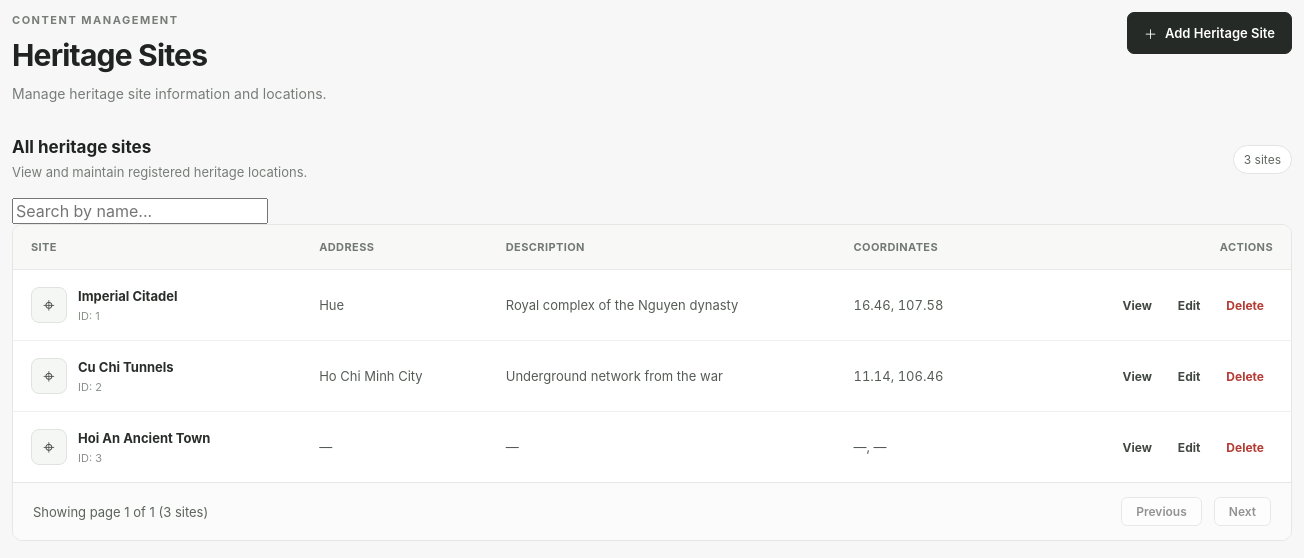
Scenario: HeritageSitesPage — CRUD request behavior › cancels or confirms deletion and refreshes only after confirmation
The image size is (1304, 558).
Expected: the text "Cu Chi Tunnels" is shown, [78, 359, 174, 375]
What coordinates should you click on to do the following:
click the button with aria-label "delete cu chi tunnels"
I would click on:
 (1245, 376)
Its box is [1217, 362, 1273, 391].
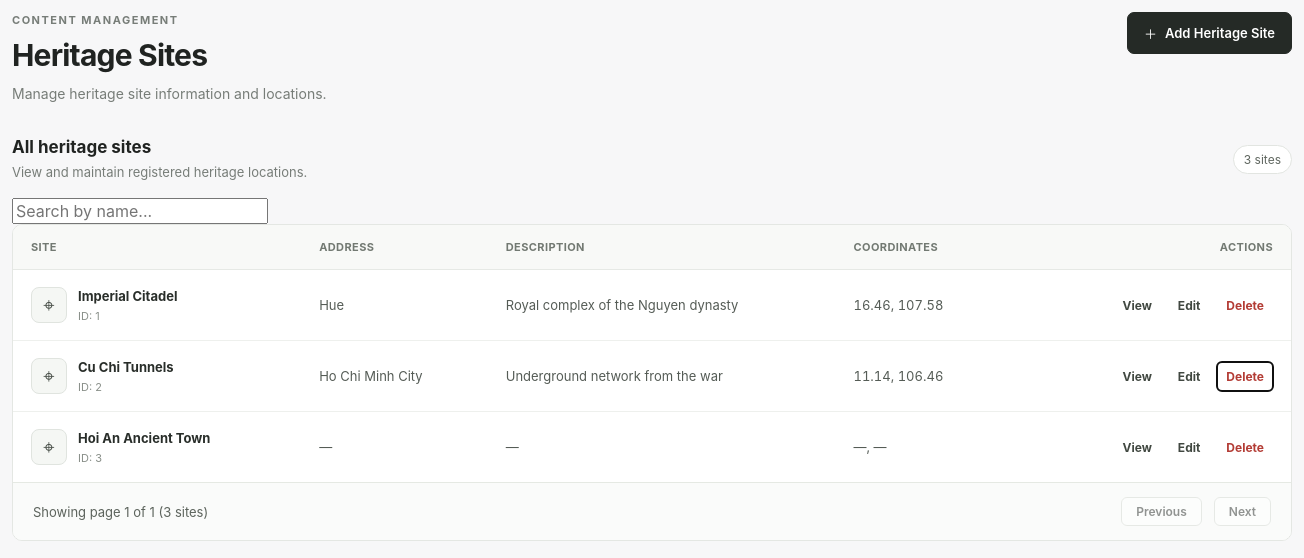
Expected: the text "Cu Chi Tunnels" is shown, [78, 359, 174, 375]
What coordinates should you click on to do the following:
click the button with aria-label "delete cu chi tunnels"
I would click on:
 (1245, 376)
Its box is [1217, 362, 1273, 391].
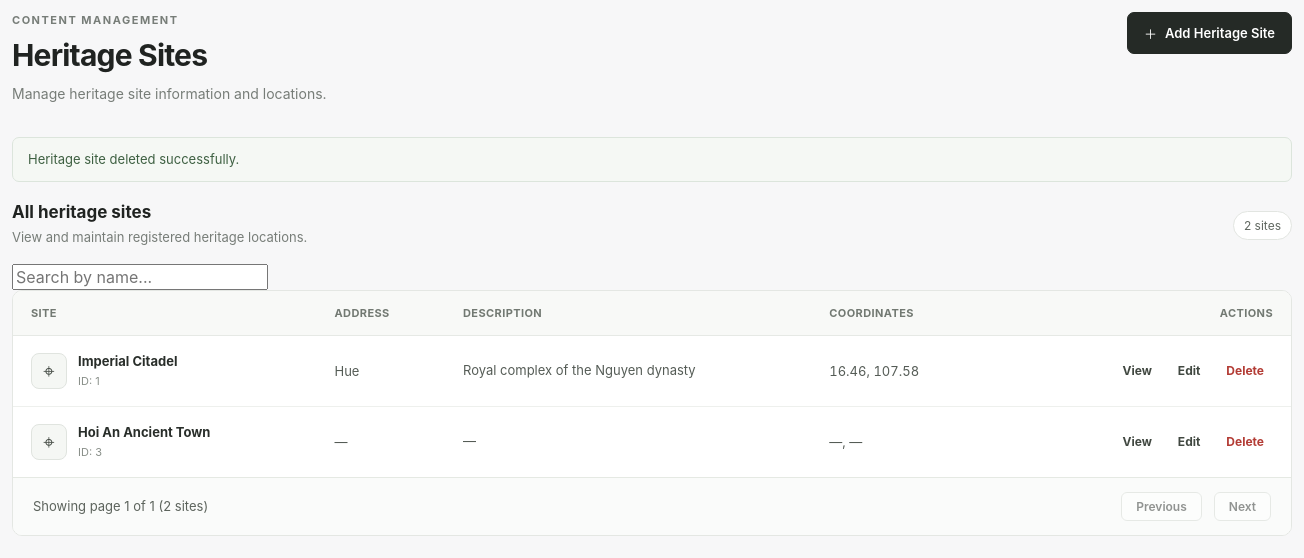
Expected: the text "Heritage site deleted successfully." is shown, [12, 137, 1292, 182]
Expected: the text "Cu Chi Tunnels" is gone
